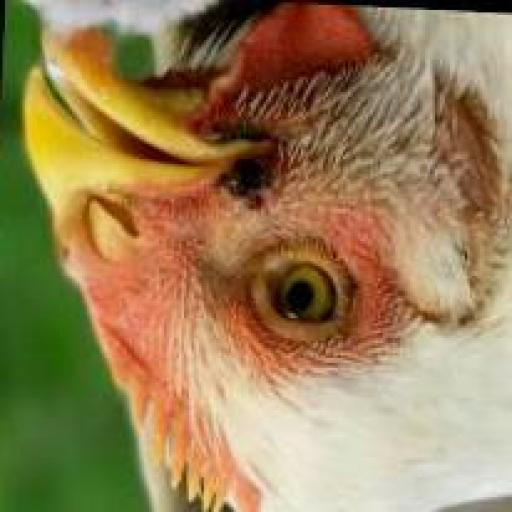disease: (190, 103, 310, 218)
